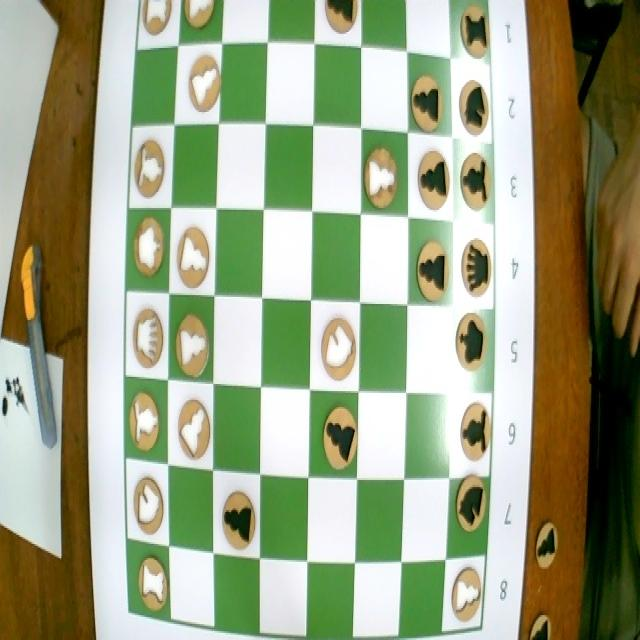chess-pieces: (312, 305, 360, 391), (312, 395, 361, 477), (125, 460, 167, 544), (170, 302, 214, 382), (361, 130, 404, 210), (412, 226, 452, 311), (216, 483, 260, 556), (129, 294, 168, 376), (129, 130, 170, 208), (408, 57, 448, 135), (172, 219, 214, 293), (173, 394, 216, 466), (129, 207, 168, 286), (127, 380, 165, 461), (452, 401, 494, 470), (412, 140, 452, 212), (454, 306, 489, 384), (458, 225, 492, 304), (456, 71, 494, 138), (458, 145, 494, 213), (134, 548, 170, 616), (457, 0, 493, 63), (446, 564, 483, 624), (450, 479, 488, 534), (318, 0, 362, 47), (186, 54, 221, 110), (139, 0, 177, 47), (182, 0, 218, 35)
